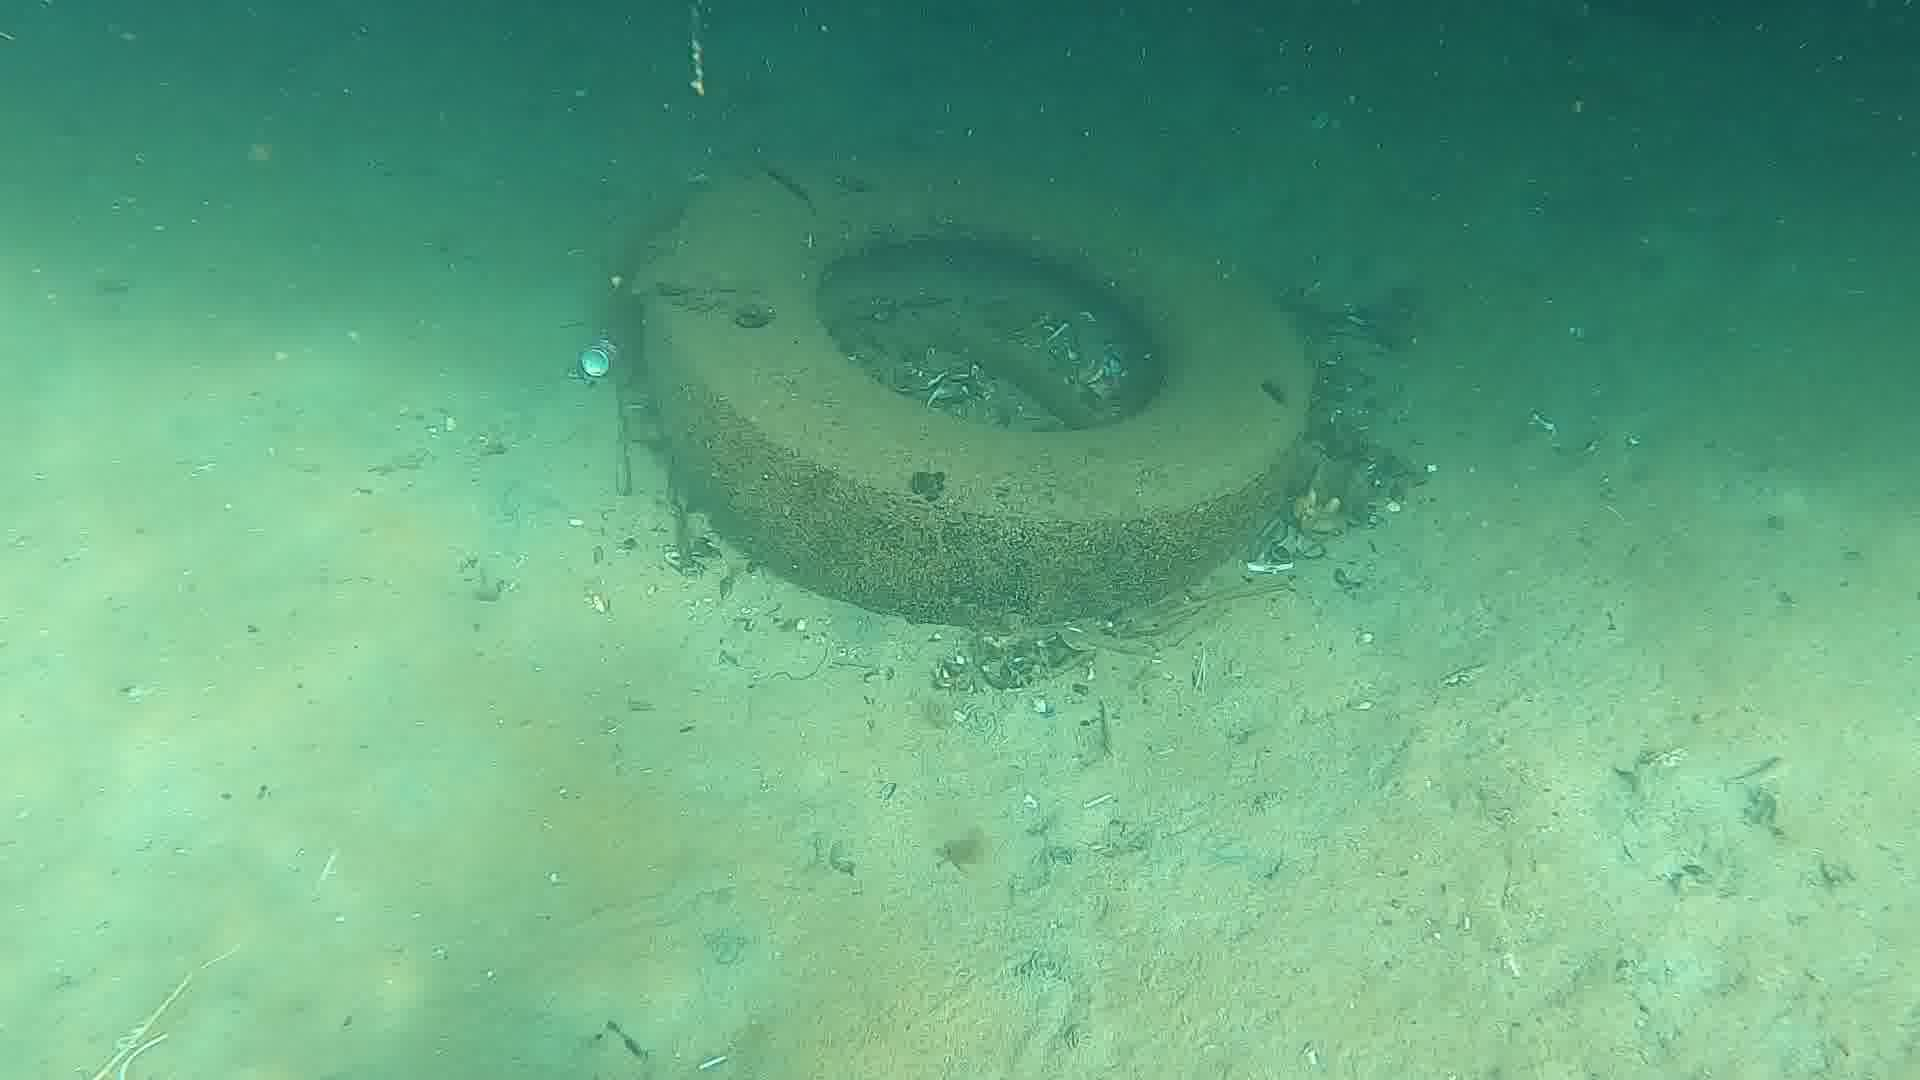tire: (640, 152, 1316, 634)
